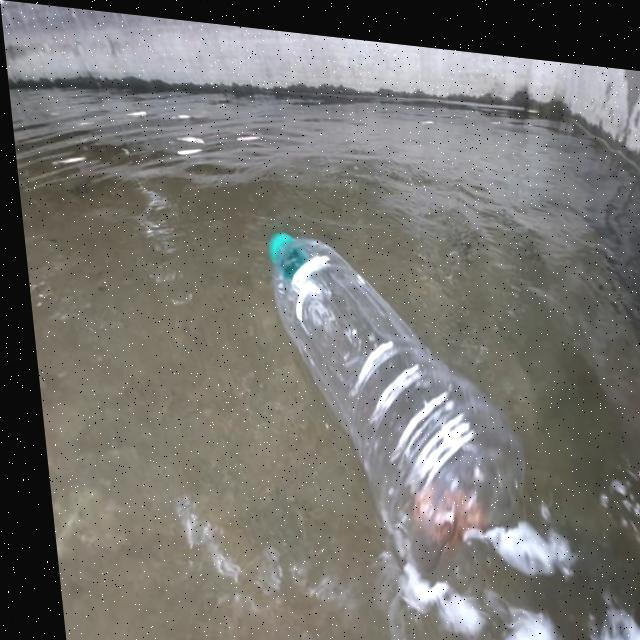waterbottle: (244, 211, 526, 578)
